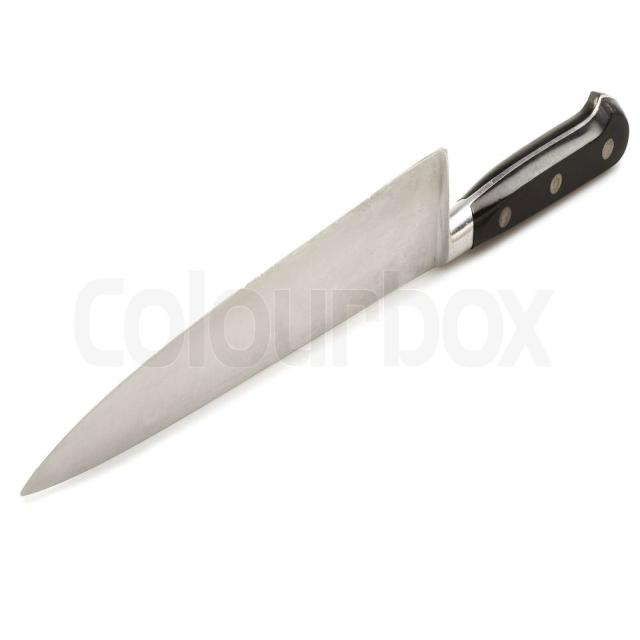Knife: (20, 89, 629, 496)
